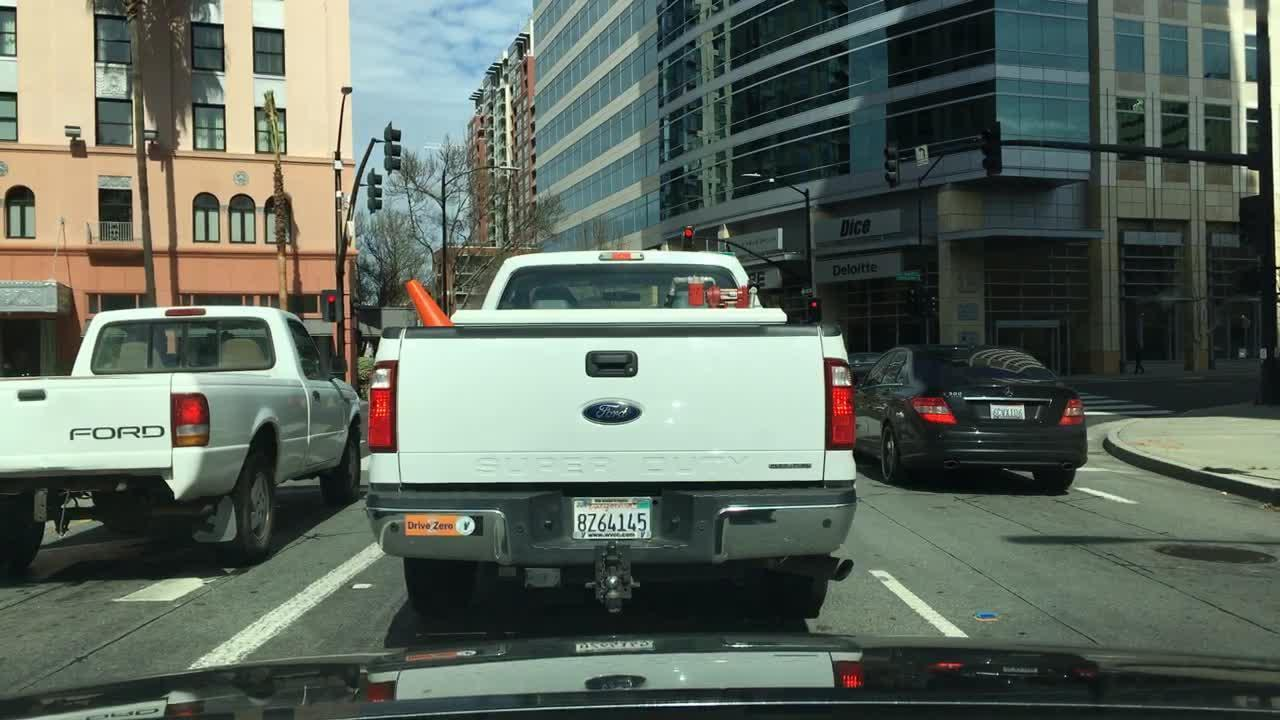Mitsubishi: (1000, 385, 1017, 399)
ford: (62, 418, 178, 448), (576, 396, 649, 432)
